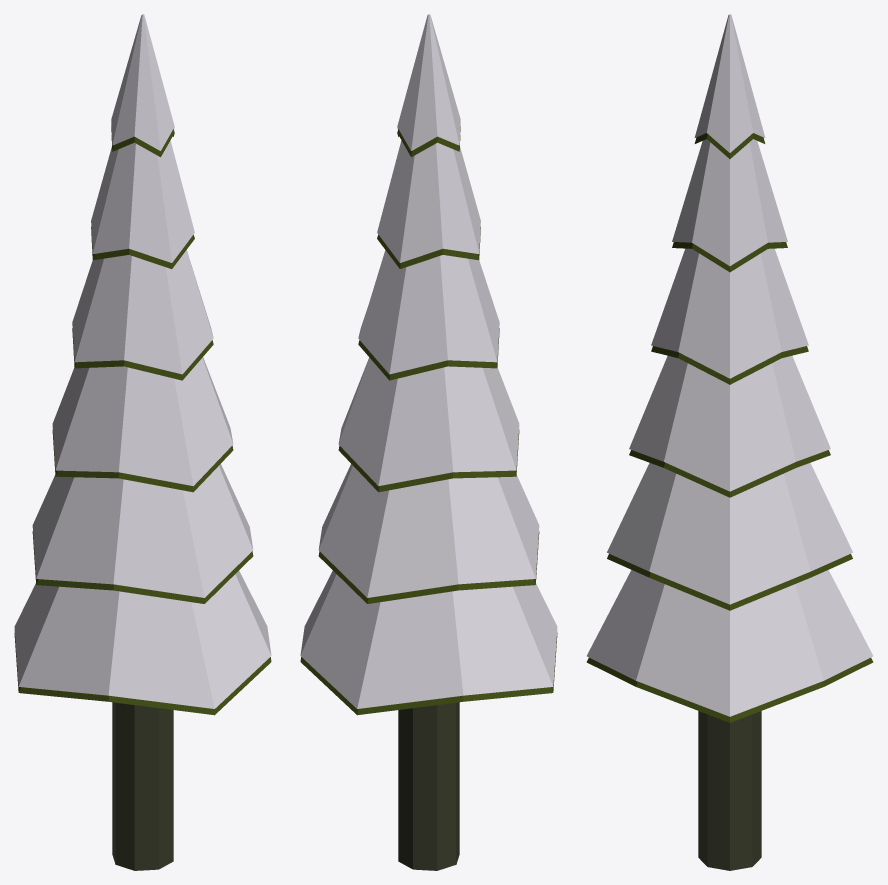
The model's file is PineSmall.fbx.
The picture shows the model from 3 angles, left to right: view 1: azimuth 30°, elevation 25°; view 2: azimuth 150°, elevation 25°; view 3: azimuth 270°, elevation 25°; orthographic projection.
Visible parts, largest first — view 1: PineSmall; view 2: PineSmall; view 3: PineSmall.
Boxes of the visible parts, x1,y1,x2,y2 form: PineSmall: [14, 14, 271, 870]; PineSmall: [300, 14, 557, 870]; PineSmall: [586, 14, 873, 870].
Bounding box in the file's own units: 67.44 × 219 × 67.44.
